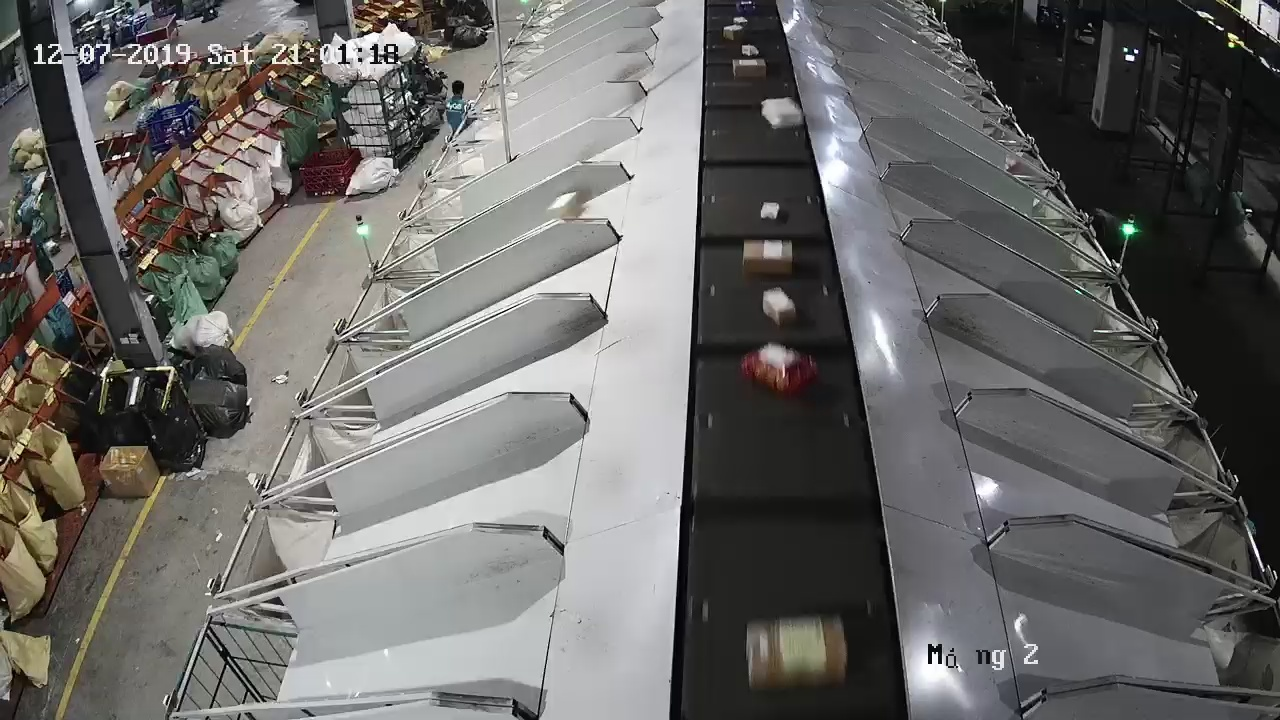parcel: (759, 96, 805, 130)
